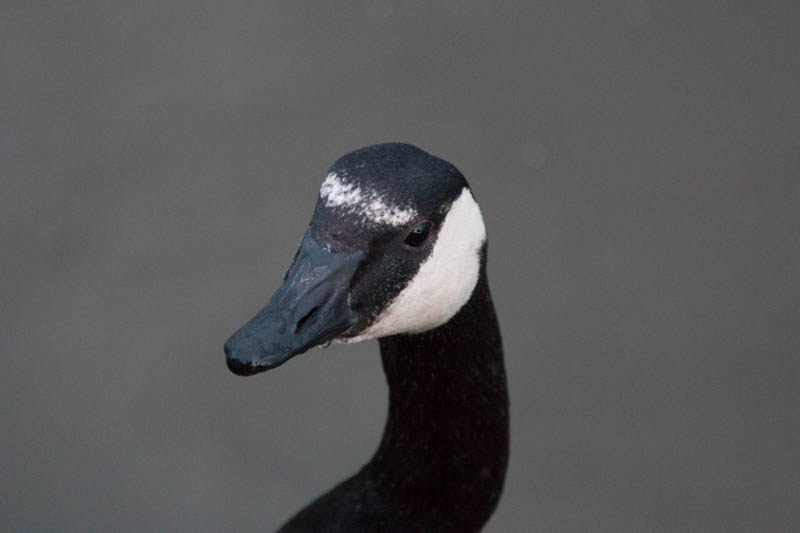goose-head: (222, 144, 491, 377)
